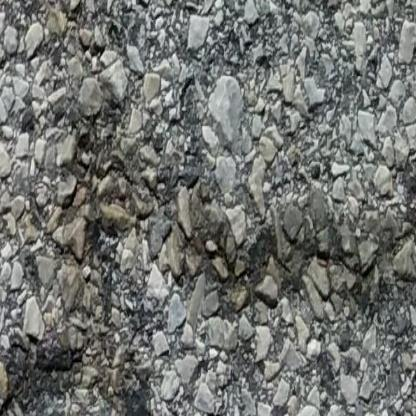Cracks: (0, 104, 416, 416), (34, 0, 120, 99)
